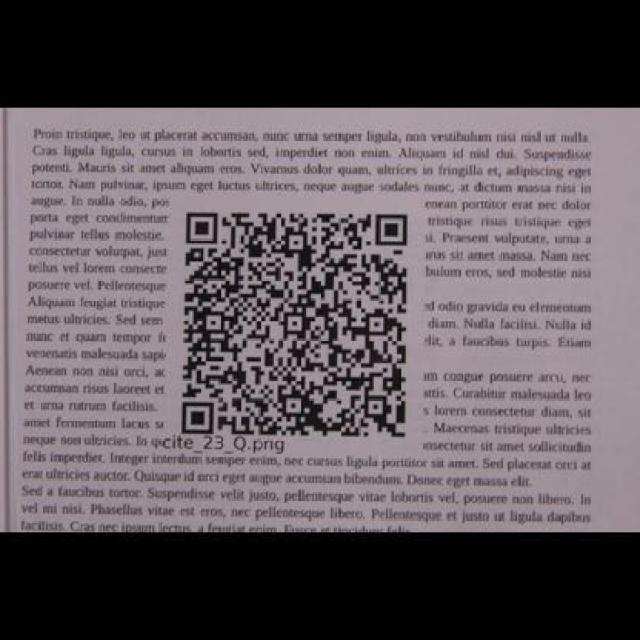QRCode: (174, 204, 414, 438)
